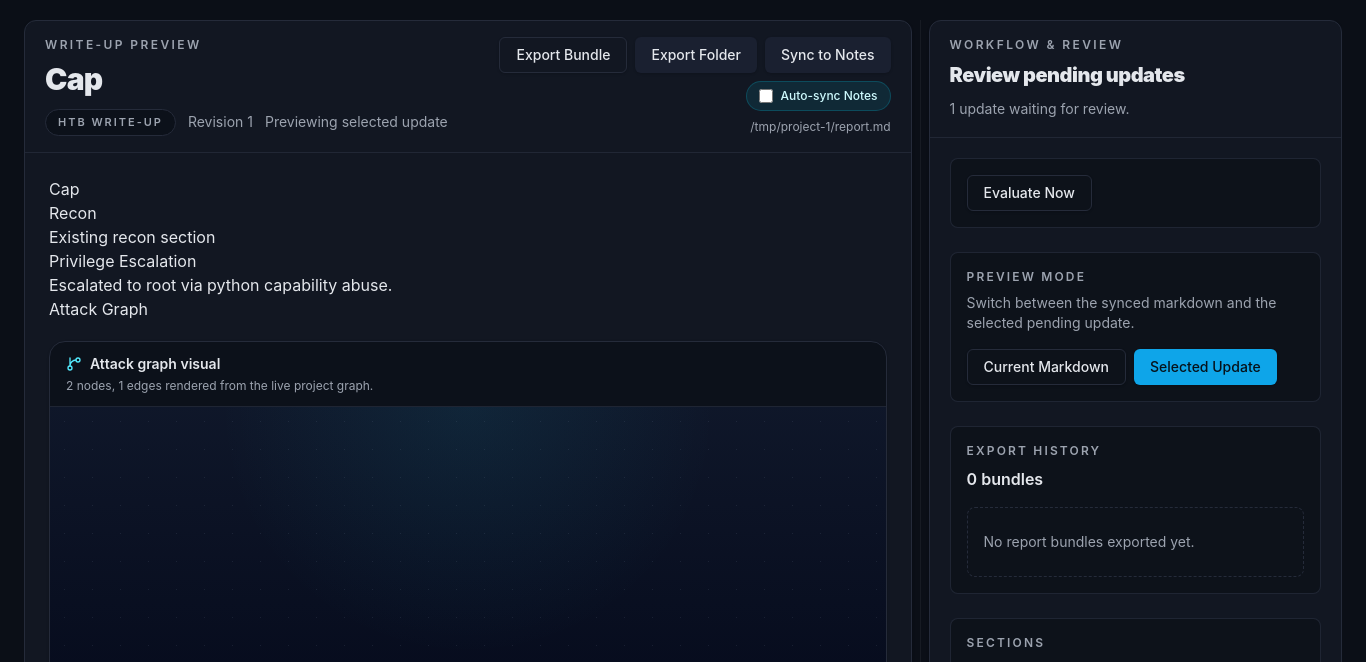
Test: ReportsPage › syncs the current report write-up into project notes
Click the button "Sync to Notes" at (828, 55), box [765, 37, 891, 73]
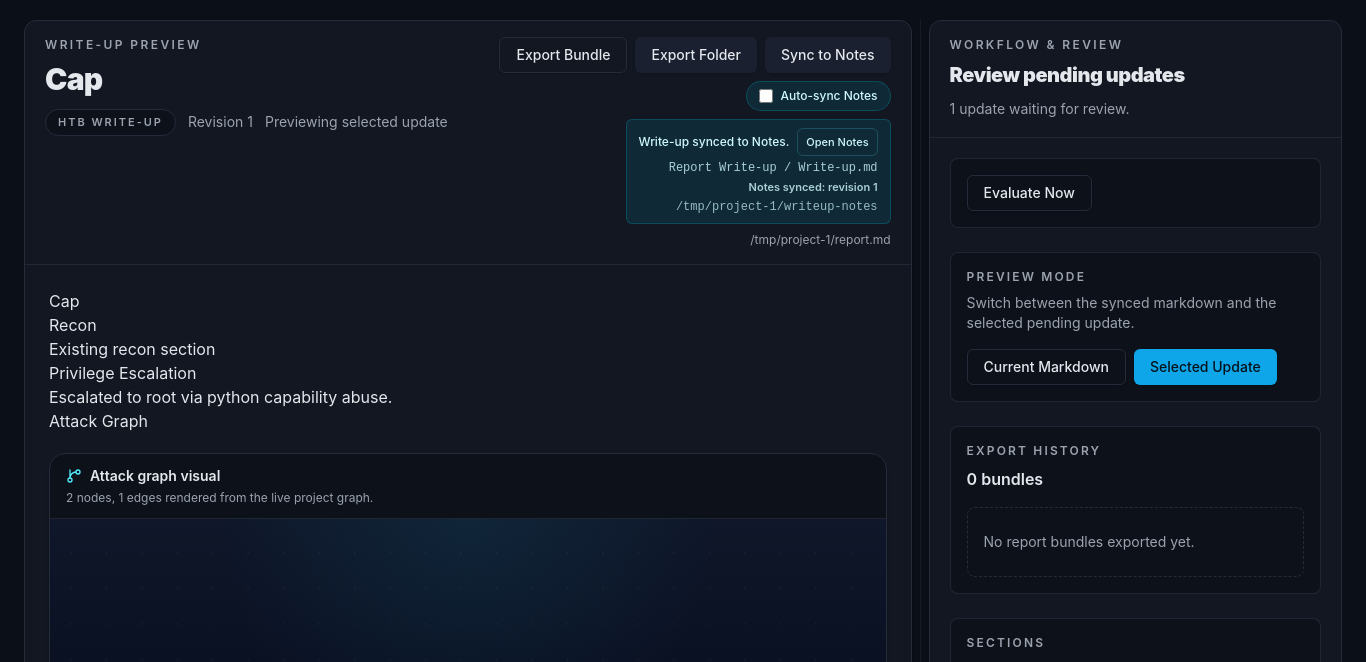
Result: the text "Write-up synced to Notes." is shown at [638, 134, 789, 150]
Result: the text "Notes synced: revision 1" is shown at [749, 180, 878, 195]
Result: the text "Report Write-up / Write-up.md" is shown at [638, 160, 878, 176]
